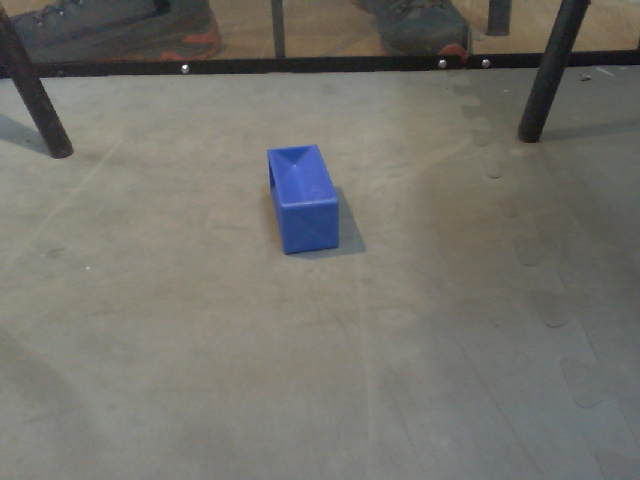BlueSample: (263, 140, 345, 258)
